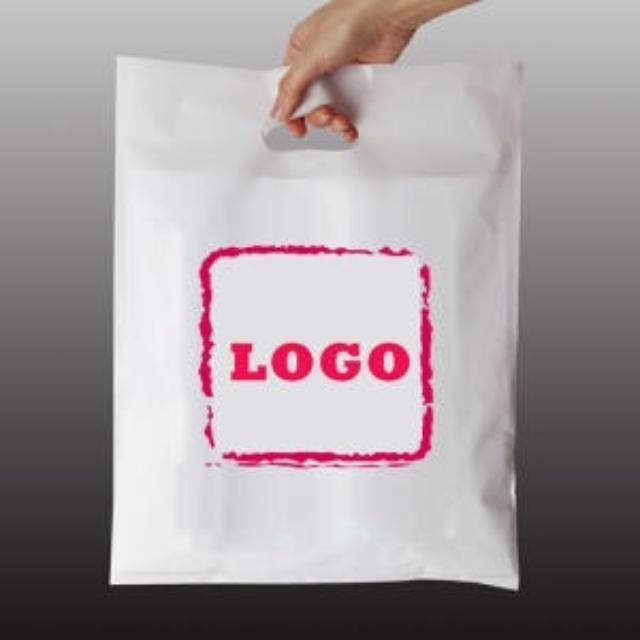plastic: (111, 58, 520, 588)
